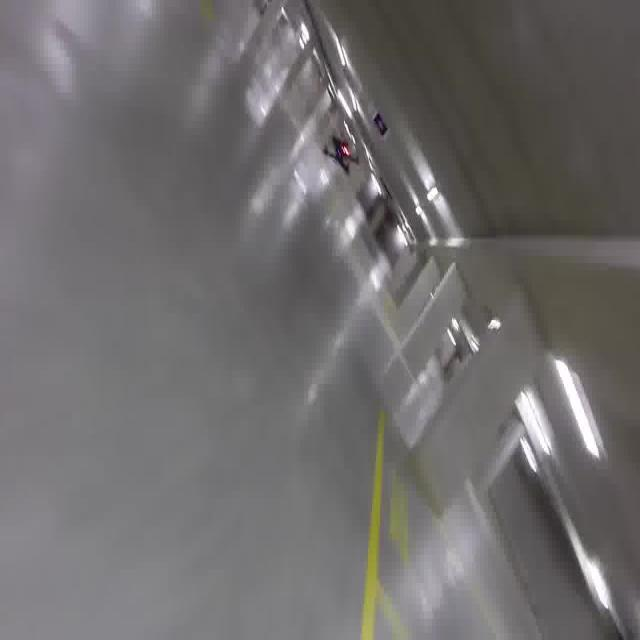drones: (321, 121, 368, 187)
